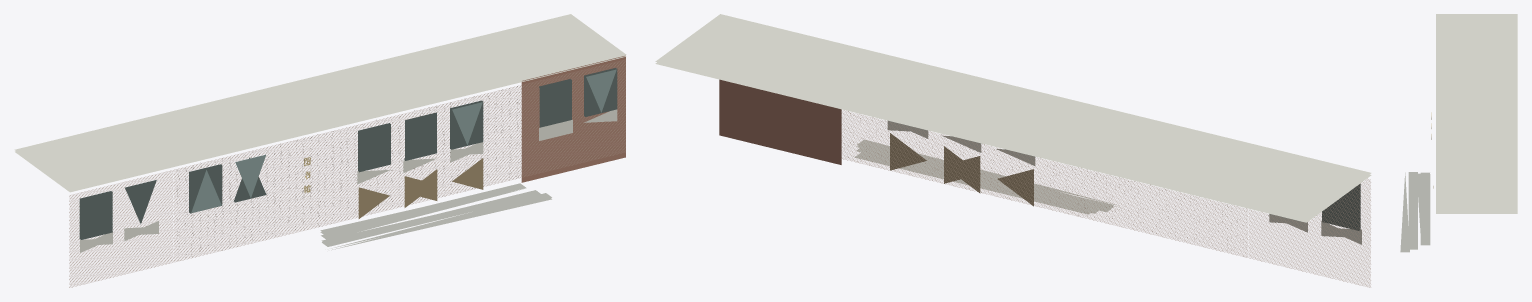
Rendered from buildings-56-far.glb.
The picture shows the model from 3 angles, left to right: view 1: azimuth 30°, elevation 25°; view 2: azimuth 150°, elevation 25°; view 3: azimuth 270°, elevation 25°; orthographic projection. The views are drawn at different scales.
Visible parts, largest first — view 1: 理科图书馆 · Library ivory panels.001, 理科图书馆 · Library mortar.001, 理科图书馆 · Library dark steel.001, 理科图书馆 · Library muted red brick.001, 理科图书馆 · Library entry steps.001, 理科图书馆 · Library green grey glazing.001, 理科图书馆 · Library bronze doors.001; view 2: 理科图书馆 · Library ivory panels.001, 理科图书馆 · Library mortar.001, 理科图书馆 · Library muted red brick.001, 理科图书馆 · Library entry steps.001, 理科图书馆 · Library bronze doors.001, 理科图书馆 · Library dark steel.001; view 3: 理科图书馆 · Library ivory panels.001, 理科图书馆 · Library entry steps.001.
Boxes of the visible parts, <box> form: 理科图书馆 · Library ivory panels.001: <box>14,14,626,252</box>; 理科图书馆 · Library mortar.001: <box>69,59,625,287</box>; 理科图书馆 · Library dark steel.001: <box>79,68,617,239</box>; 理科图书馆 · Library muted red brick.001: <box>521,55,625,182</box>; 理科图书馆 · Library entry steps.001: <box>320,183,551,250</box>; 理科图书馆 · Library green grey glazing.001: <box>191,69,616,212</box>; 理科图书馆 · Library bronze doors.001: <box>358,158,483,218</box>; 理科图书馆 · Library ivory panels.001: <box>655,14,1371,244</box>; 理科图书馆 · Library mortar.001: <box>842,110,1370,287</box>; 理科图书馆 · Library muted red brick.001: <box>719,79,841,164</box>; 理科图书馆 · Library entry steps.001: <box>854,139,1119,214</box>; 理科图书馆 · Library bronze doors.001: <box>890,133,1033,206</box>; 理科图书馆 · Library dark steel.001: <box>1322,184,1360,230</box>; 理科图书馆 · Library ivory panels.001: <box>1436,14,1517,213</box>; 理科图书馆 · Library entry steps.001: <box>1400,172,1430,252</box>.
Size of the model in its own units: 64 by 11.34 by 15.95.
